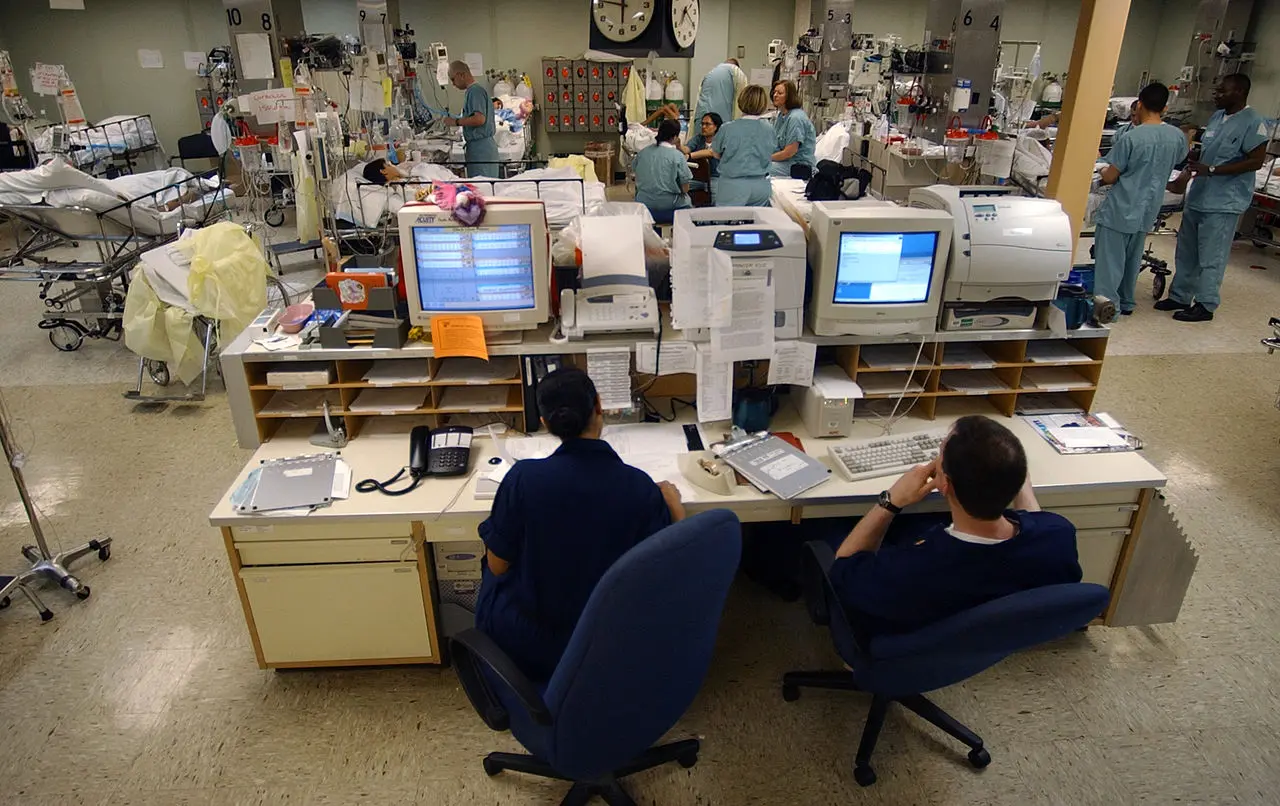bedside_monitor: (425, 43, 449, 64)
chair: (451, 503, 738, 806), (781, 567, 1116, 788)
computer: (398, 195, 552, 333), (807, 200, 956, 337)
counter: (233, 307, 1114, 416)
drawer: (983, 489, 1161, 622)
hospital_bed: (12, 153, 212, 352)
iv_pole: (273, 91, 334, 253), (36, 62, 86, 157), (1, 48, 36, 168)
keyboard: (830, 433, 980, 482)
patient: (362, 158, 581, 196)
staff: (782, 416, 1083, 664), (473, 366, 687, 671), (1166, 71, 1268, 322), (1095, 83, 1190, 322), (710, 84, 777, 207), (445, 60, 500, 178), (631, 119, 694, 211), (769, 80, 816, 181), (693, 56, 748, 135), (677, 112, 728, 180)
table: (208, 409, 1168, 672)
telephone: (355, 424, 473, 496), (549, 284, 663, 345)
